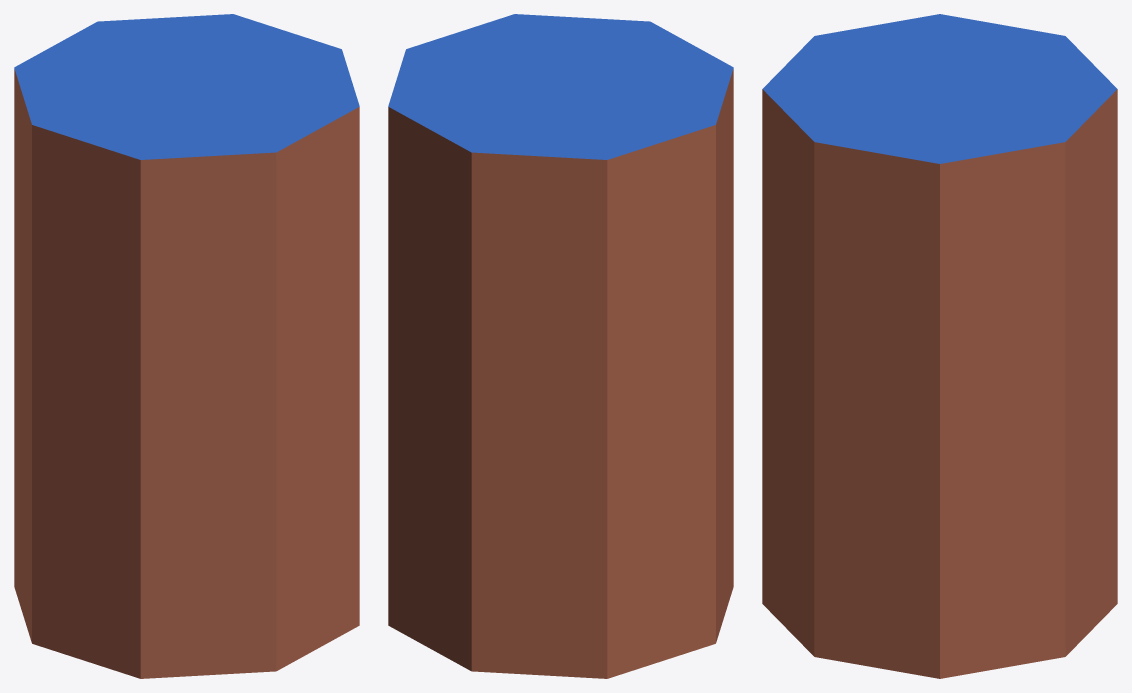
The model's file is simple_column.obj.
The picture shows the model from 3 angles, left to right: view 1: azimuth 30°, elevation 25°; view 2: azimuth 150°, elevation 25°; view 3: azimuth 270°, elevation 25°; orthographic projection.
Visible parts, largest first — view 1: SimpleColumn; view 2: SimpleColumn; view 3: SimpleColumn.
Part boxes in pixels (left/top/right/bottom): SimpleColumn: left=14, top=14, right=359, bottom=678; SimpleColumn: left=388, top=14, right=733, bottom=678; SimpleColumn: left=762, top=14, right=1117, bottom=678.
Size of the model in its own units: 2 by 3.2 by 2.
